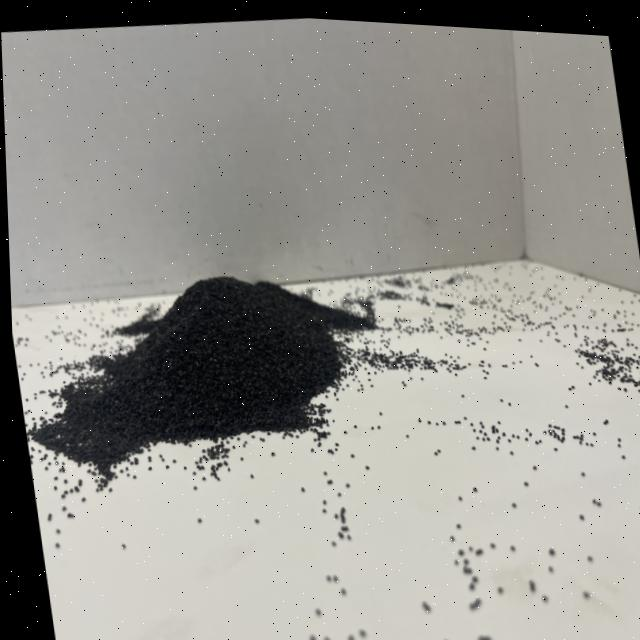Poppy Seeds: (29, 236, 384, 508)
